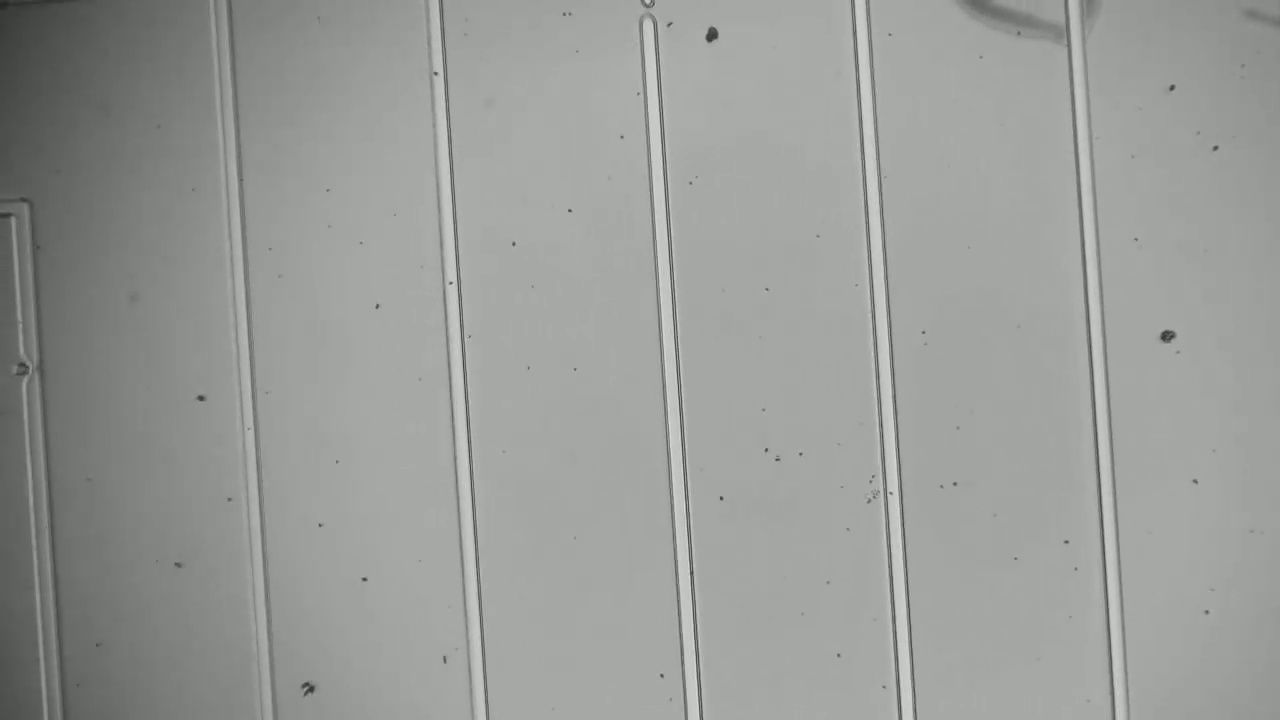edge_bite: (7, 345, 52, 390)
open: (622, 1, 674, 36)
